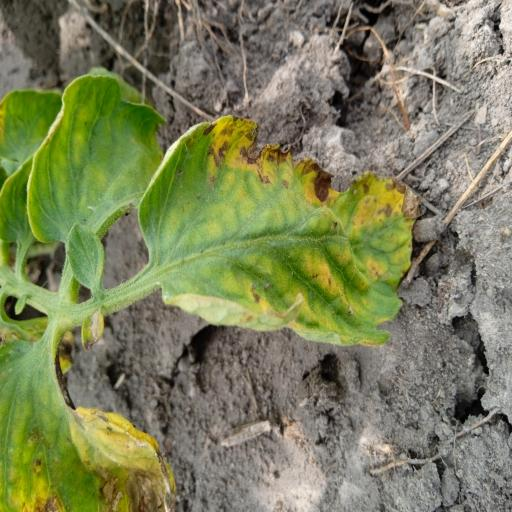Tomato_Brown_Spots: (133, 106, 419, 354), (25, 61, 171, 247)
